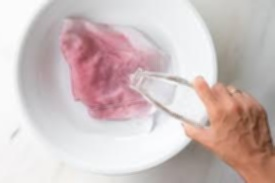wine: (66, 25, 162, 121)
